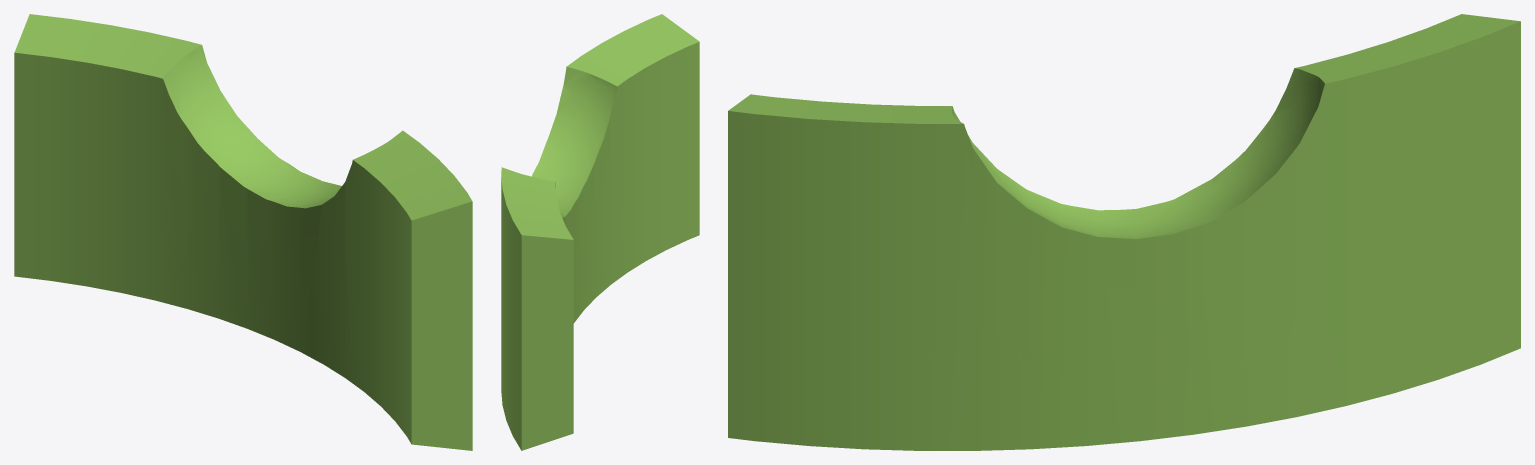
Rendered from CircleBlock14.obj.
The picture shows the model from 3 angles, left to right: view 1: azimuth 30°, elevation 25°; view 2: azimuth 150°, elevation 25°; view 3: azimuth 270°, elevation 25°; orthographic projection. The views are drawn at different scales.
Parts seen in each view (by area): view 1: CircleBlock14; view 2: CircleBlock14; view 3: CircleBlock14.
Part boxes in pixels (left/top/right/bottom): CircleBlock14: left=14, top=14, right=472, bottom=450; CircleBlock14: left=501, top=14, right=699, bottom=450; CircleBlock14: left=728, top=14, right=1520, bottom=450.
Size of the model in its own units: 4.27 by 5.14 by 11.29.
